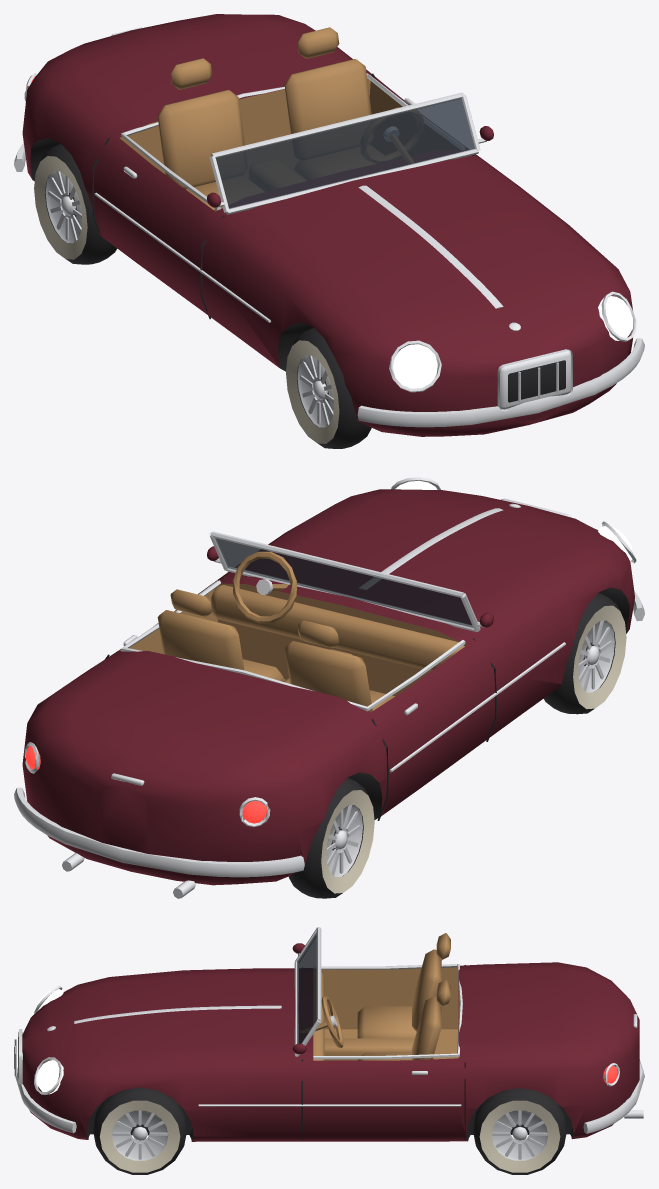
The model's file is conversivel.glb.
3 views of the same model, one above another, from view 1: azimuth 30°, elevation 25°; view 2: azimuth 150°, elevation 25°; view 3: azimuth 270°, elevation 25° (orthographic). The views are drawn at different scales.
Parts seen in each view (by area): view 1: body, wheel_FR_mesh, wheel_RR_mesh; view 2: body, wheel_RR_mesh, wheel_FR_mesh; view 3: body, wheel_FL_mesh, wheel_RL_mesh.
Part boxes in pixels (<box>): body: <box>14,14,644,436</box>; wheel_FR_mesh: <box>286,328,371,448</box>; wheel_RR_mesh: <box>34,143,116,264</box>; body: <box>14,477,644,898</box>; wheel_RR_mesh: <box>289,777,374,898</box>; wheel_FR_mesh: <box>543,593,626,714</box>; body: <box>14,927,644,1141</box>; wheel_FL_mesh: <box>93,1087,186,1174</box>; wheel_RL_mesh: <box>473,1088,566,1174</box>.
Bounding box in the file's own units: 1.87 × 1.31 × 4.57.
